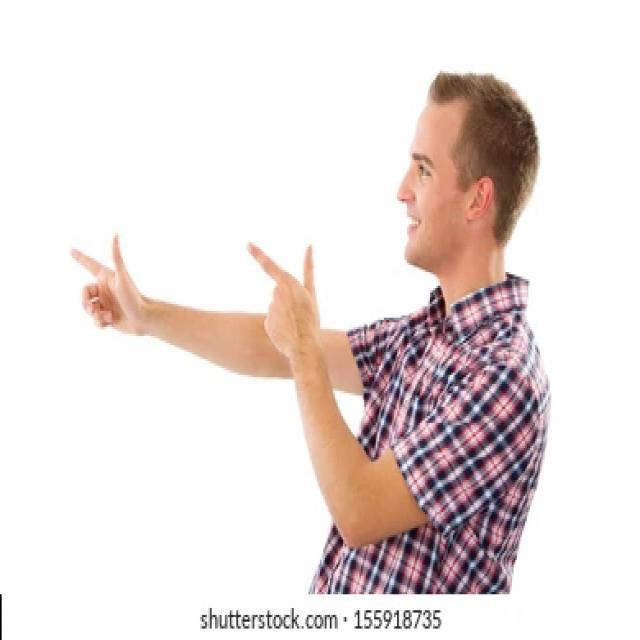Nonhelmet: (386, 64, 544, 278)
